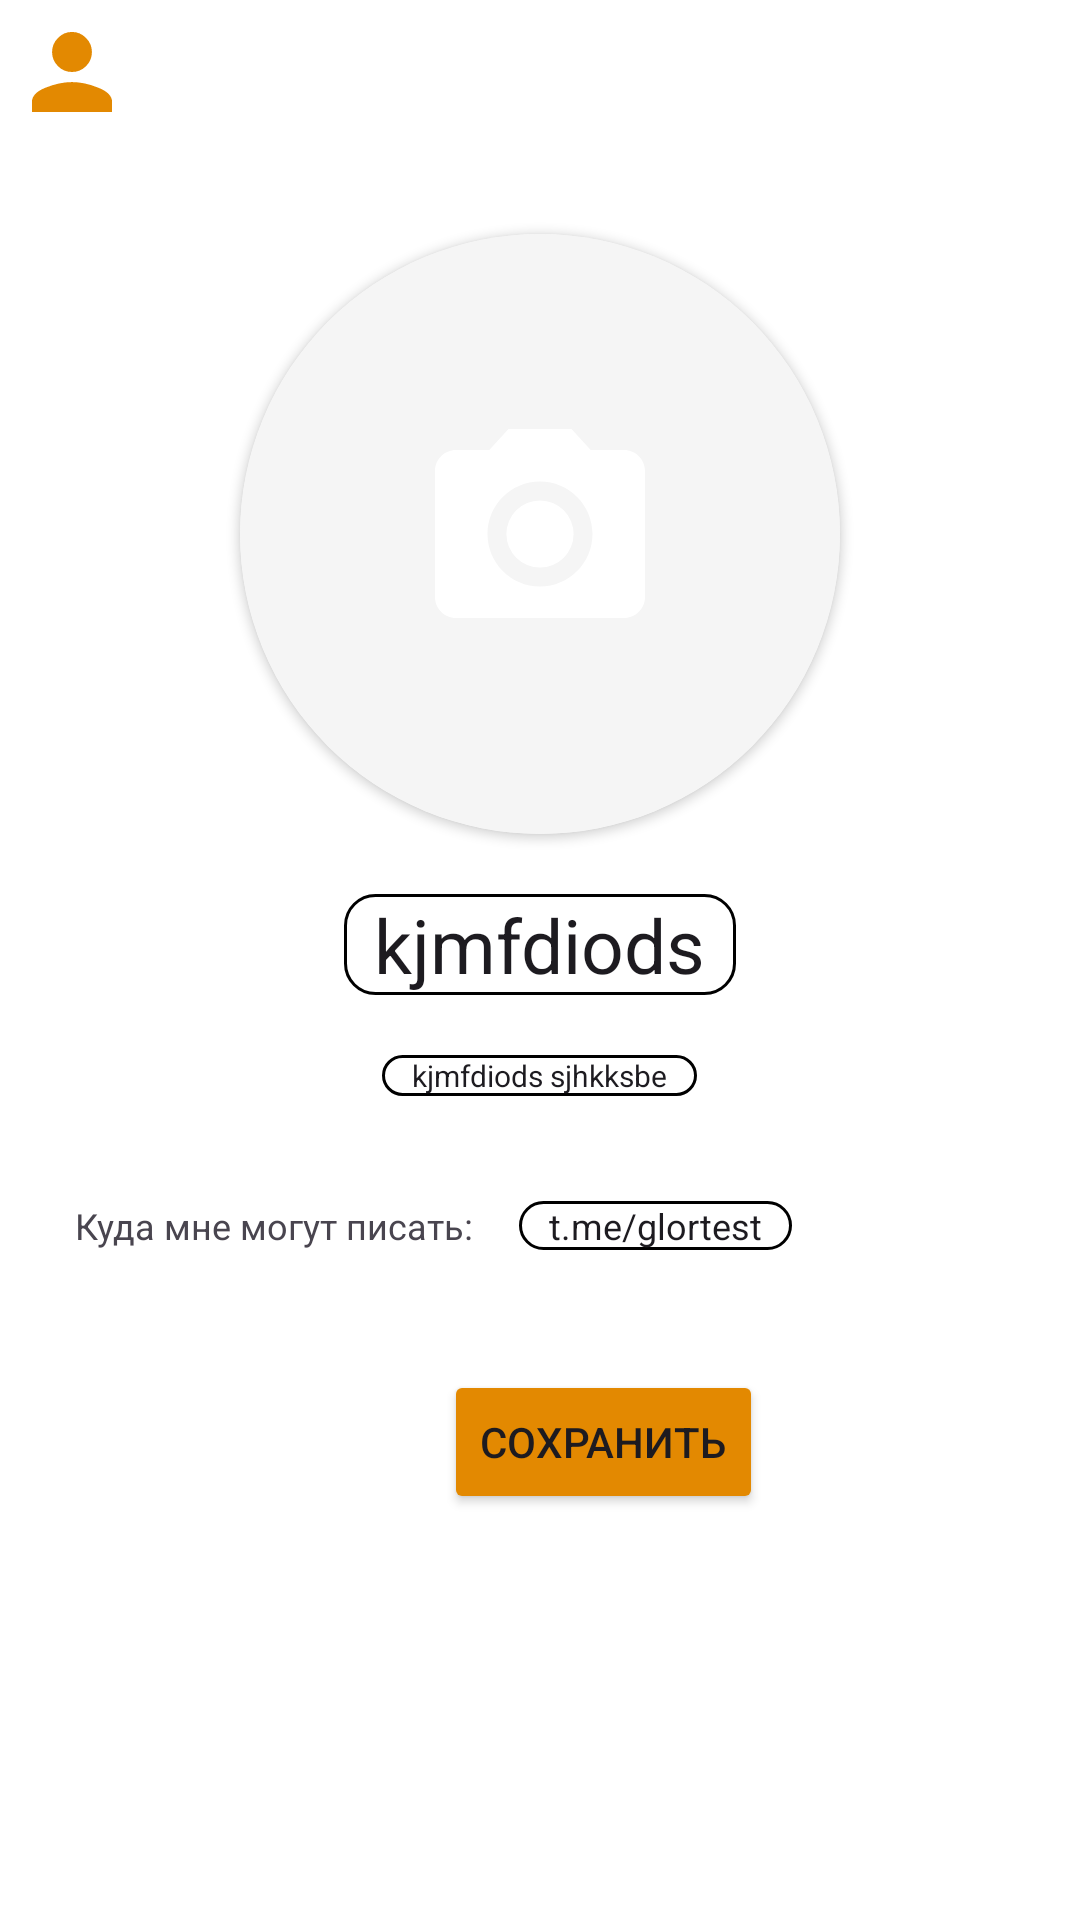

Icon bounding boxes for this 1080 x 1920 phone screenshot, format rect(x1, y1, x2, y2):
person: rect(32, 32, 112, 112)
